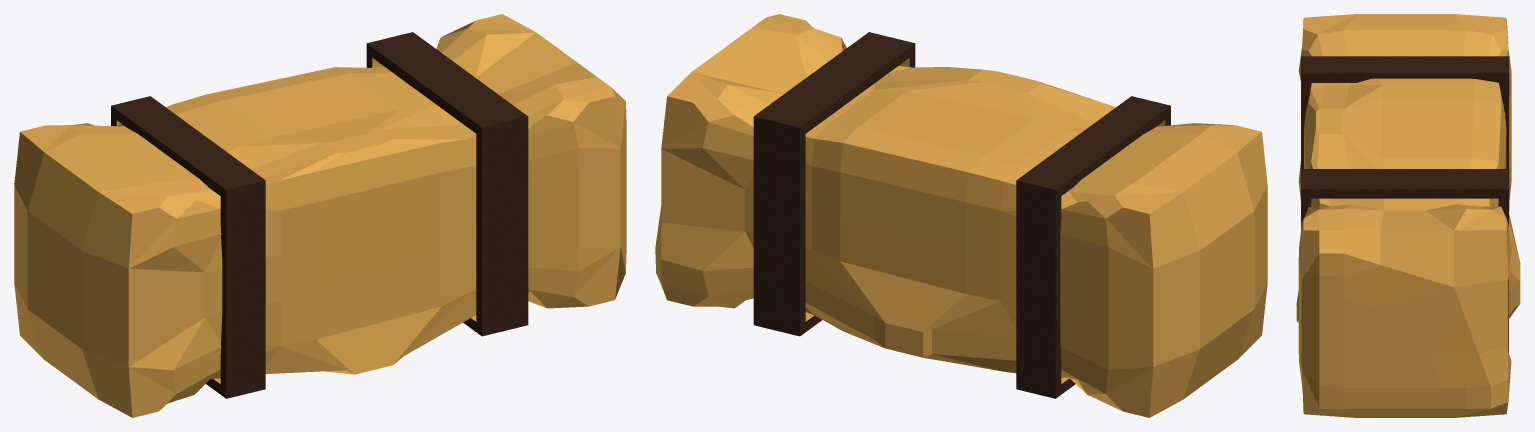
The model's file is Hay.fbx.
3 renders of one model, left to right at view 1: azimuth 30°, elevation 25°; view 2: azimuth 150°, elevation 25°; view 3: azimuth 270°, elevation 25°, orthographic. The views are drawn at different scales.
Parts seen in each view (by area): view 1: Cube; view 2: Cube; view 3: Cube.
Part boxes in pixels (x1,y1,x2,y2): Cube: (14,14,626,417); Cube: (655,14,1267,417); Cube: (1296,14,1520,417).
Size of the model in its own units: 493 by 193 by 201.
2 materials, 1 textured.
